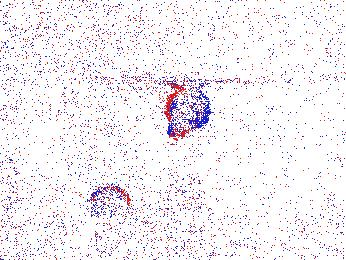flame jellyfish: (165, 87, 211, 139), (48, 184, 93, 233), (89, 186, 131, 227)
